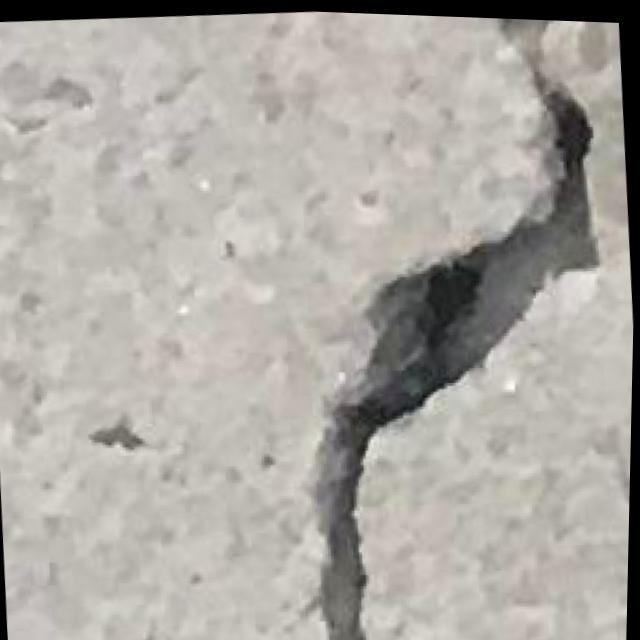Crack: (266, 8, 640, 640)
